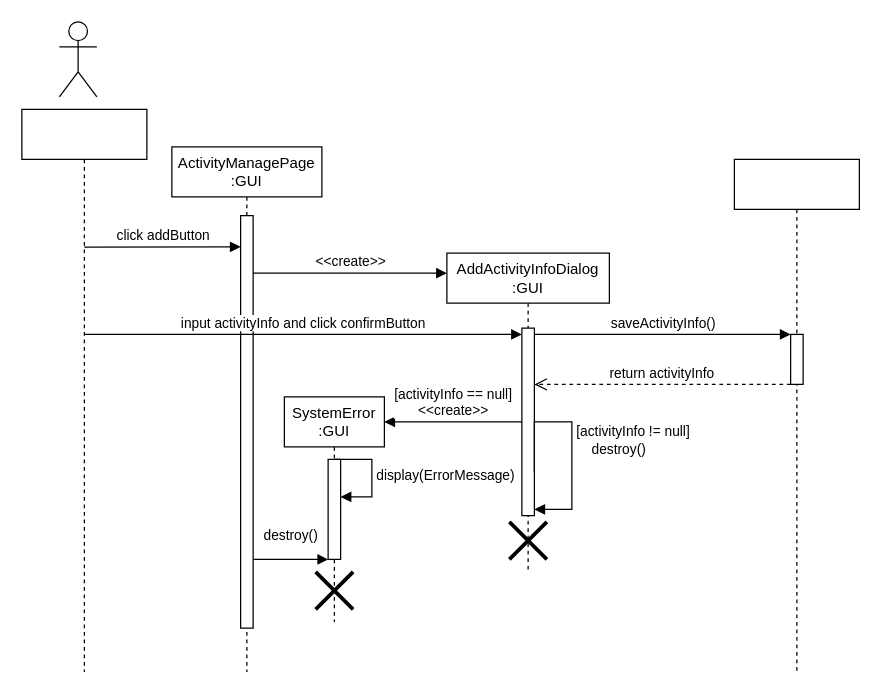
This 881x694 diagram has some shape labels left out. Each missing label, with the box of its shape:
:System: (733, 158, 859, 672)
User: (21, 108, 147, 672)
